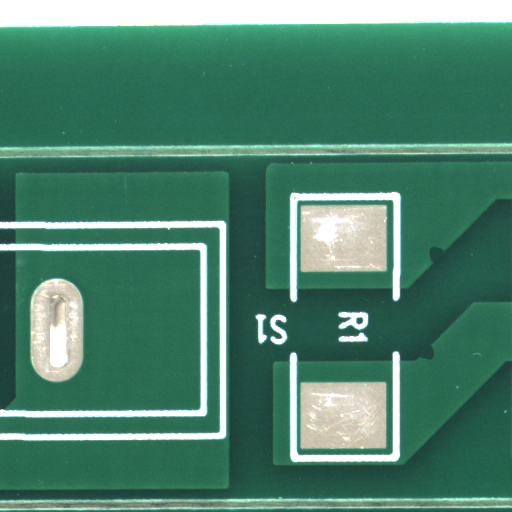Mouse_bite: (427, 352, 443, 367), (437, 255, 452, 270)
